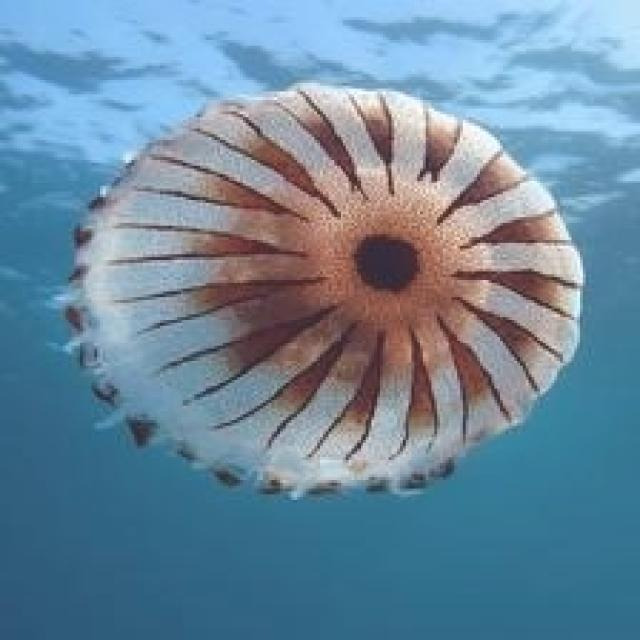Box-jellyfish: (51, 80, 586, 500)
